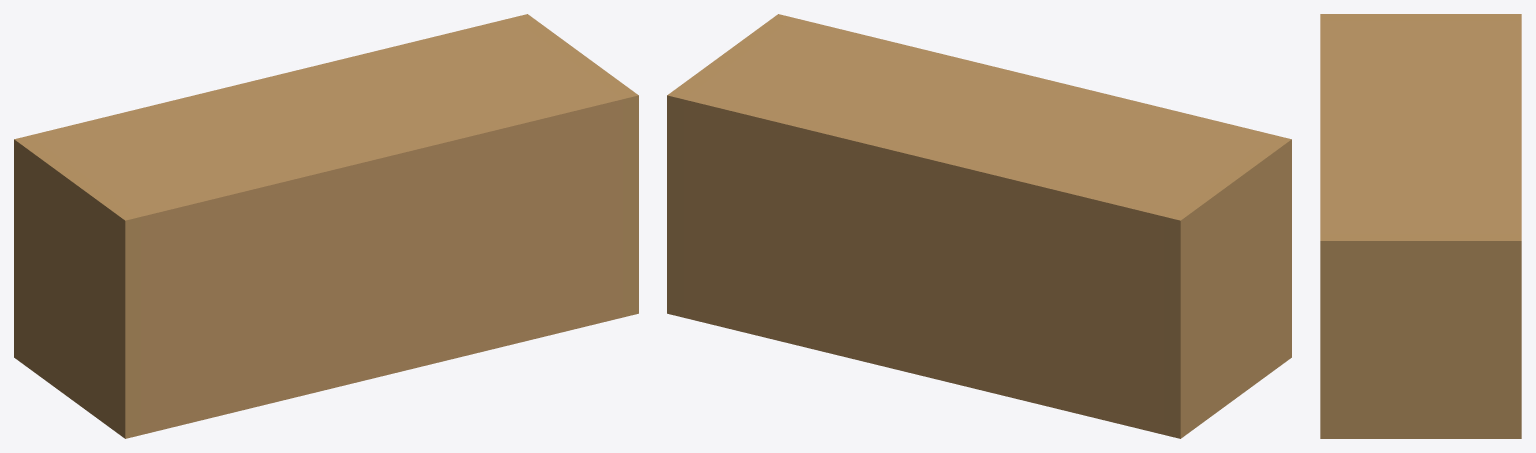
The model's file is wood_block.glb.
3 renders of one model, left to right at view 1: azimuth 30°, elevation 25°; view 2: azimuth 150°, elevation 25°; view 3: azimuth 270°, elevation 25°, orthographic. The views are drawn at different scales.
Parts seen in each view (by area): view 1: wood_block:compound; view 2: wood_block:compound; view 3: wood_block:compound.
Part boxes in pixels (x1=…): wood_block:compound: x1=14, y1=14, x2=638, y2=438; wood_block:compound: x1=667, y1=14, x2=1291, y2=438; wood_block:compound: x1=1320, y1=14, x2=1521, y2=438.
Bounding box in the file's own units: 0.128 × 0.052 × 0.048.
